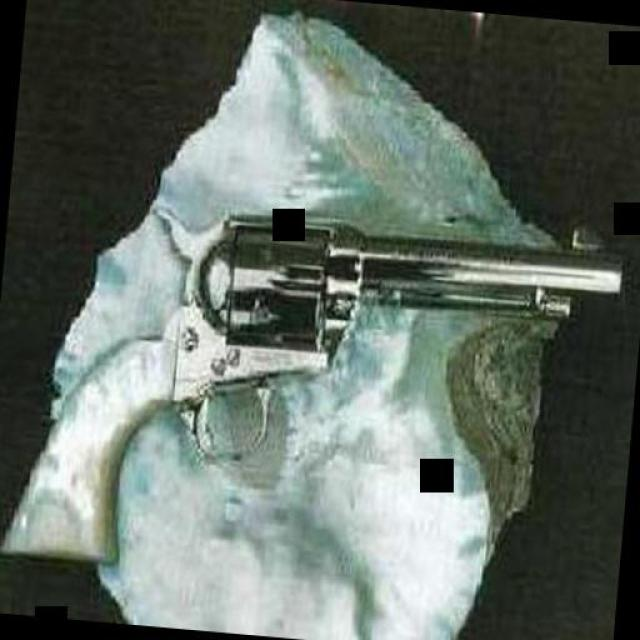gun: (0, 176, 625, 600)
